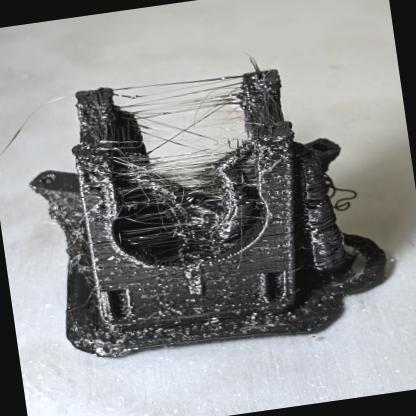fail: (114, 70, 254, 160)
